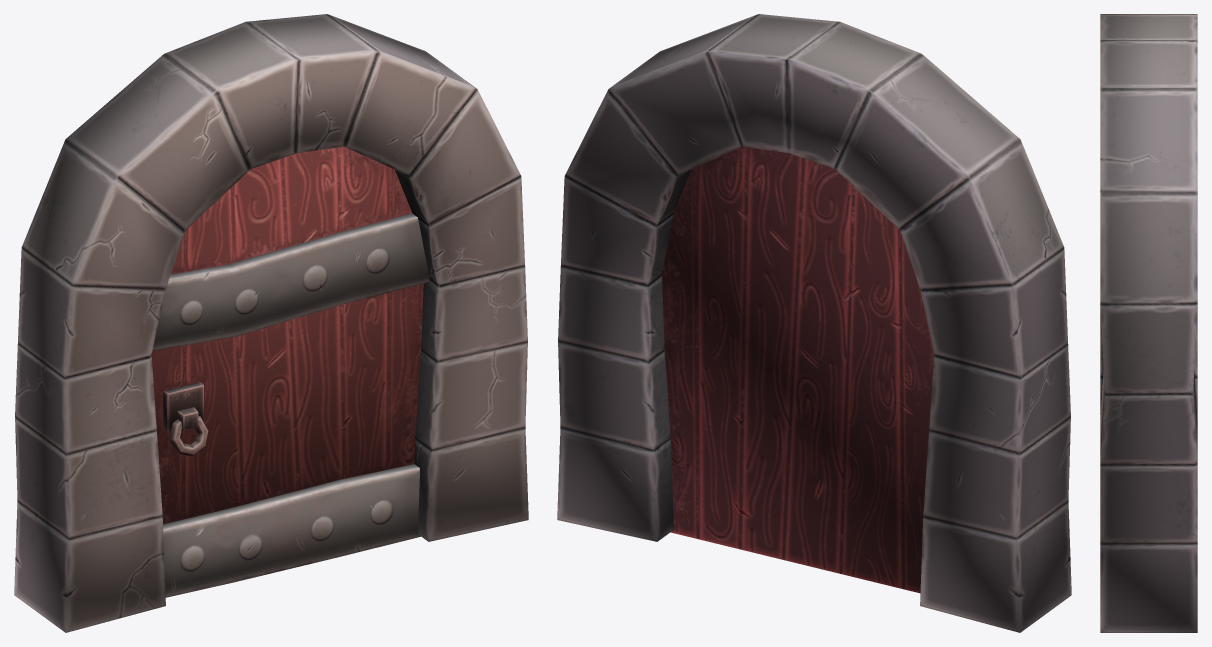
The model's file is door.glb.
The picture shows the model from 3 angles, left to right: view 1: azimuth 30°, elevation 25°; view 2: azimuth 150°, elevation 25°; view 3: azimuth 270°, elevation 25°; orthographic projection. The views are drawn at different scales.
Visible parts, largest first — view 1: door; view 2: door; view 3: door.
Boxes of the visible parts, left/top/right/bottom form: door: left=14, top=14, right=528, bottom=632; door: left=557, top=14, right=1071, bottom=632; door: left=1100, top=14, right=1197, bottom=632.
Size of the model in its own units: 32.59 by 34.85 by 6.3.
1 material, 1 textured.
